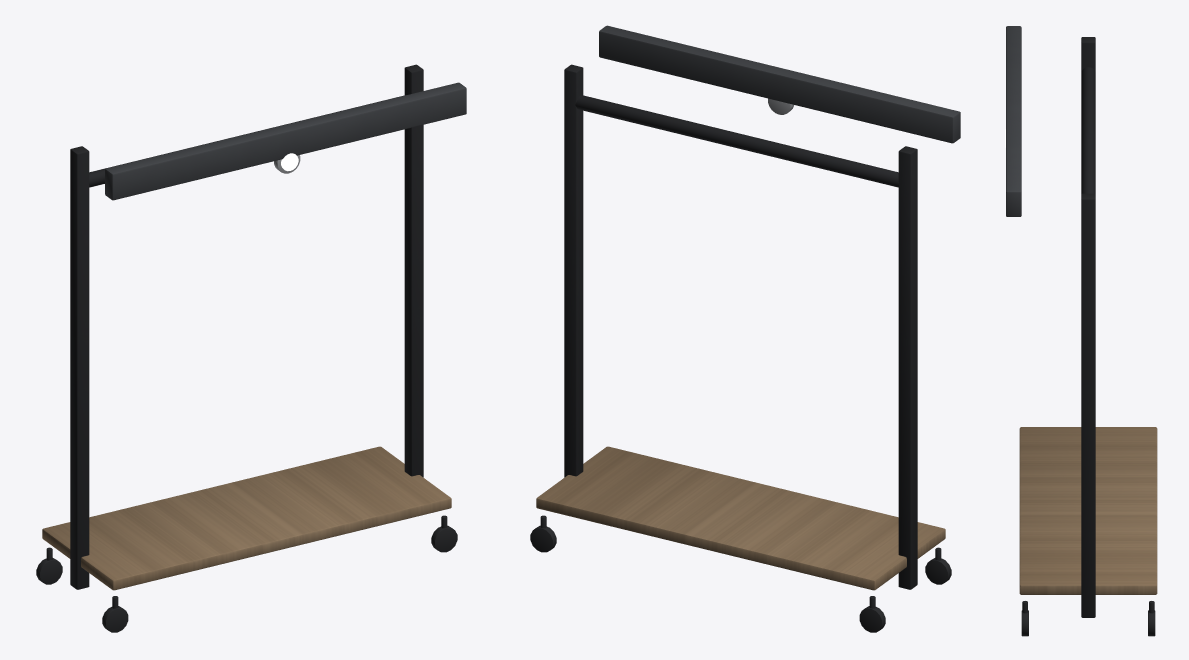
The model's file is pf_display_clothing_rack_t2.glb.
3 views of the same model, side by side, from view 1: azimuth 30°, elevation 25°; view 2: azimuth 150°, elevation 25°; view 3: azimuth 270°, elevation 25° (orthographic). The views are drawn at different scales.
Parts seen in each view (by area): view 1: Oak_Lower_Base, Header_Back, Upright_L, Upright_R; view 2: Oak_Lower_Base, Header_Back, Upright_L, Upright_R, Hang_Rail; view 3: Oak_Lower_Base, Upright_R, Header_Back, Hang_Rail, Upright_L.
Part boxes in pixels (x1,y1,x2,y2): Oak_Lower_Base: (42,446,451,590); Header_Back: (105,82,466,200); Upright_L: (70,146,89,589); Upright_R: (404,64,423,477); Oak_Lower_Base: (536,446,945,590); Header_Back: (599,25,960,143); Upright_L: (898,146,917,589); Upright_R: (564,64,583,477); Hang_Rail: (575,95,898,187); Oak_Lower_Base: (1019,427,1157,594); Upright_R: (1081,193,1095,617); Header_Back: (1006,26,1021,216); Hang_Rail: (1081,67,1095,194); Upright_L: (1081,37,1095,71).
Bounding box in the file's own units: 1.45 × 1.75 × 0.6.
7 materials, 3 textured.
